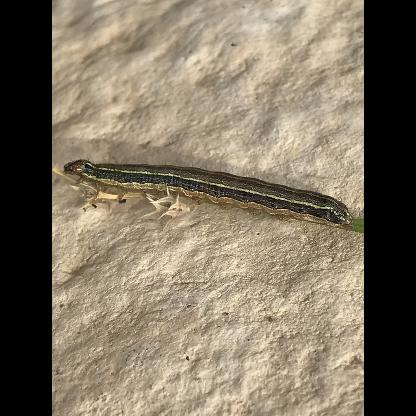Fall Armyworm Larvae: (60, 152, 356, 234)
